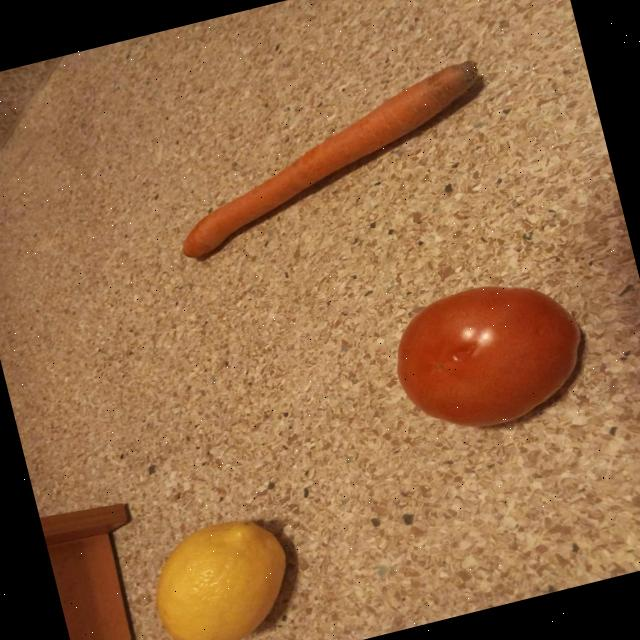carrot: (182, 59, 477, 256)
lemon: (156, 520, 285, 640)
tomato: (396, 285, 580, 425)
